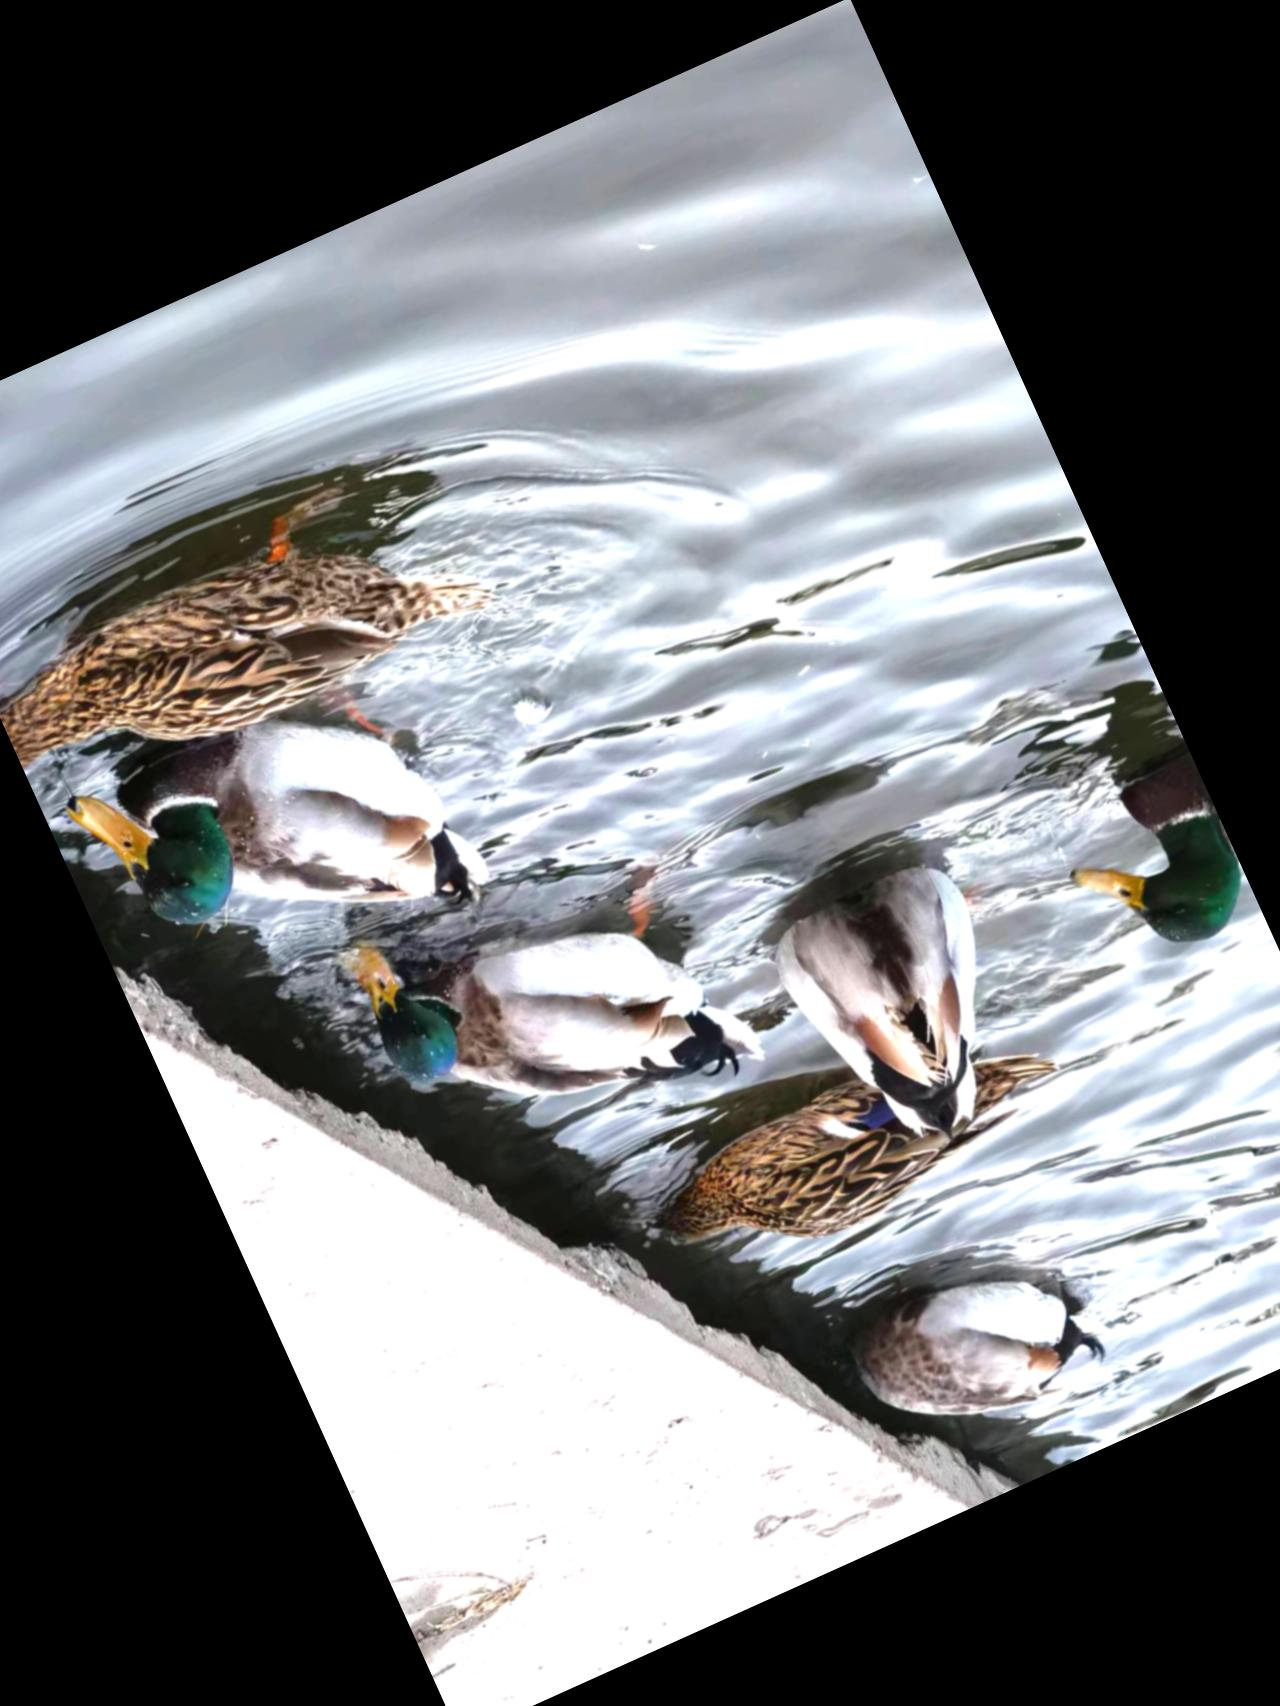duck: (0, 428, 522, 831), (317, 790, 780, 1214), (59, 644, 514, 1053), (605, 968, 1115, 1326), (738, 824, 1080, 1188), (980, 649, 1268, 1002), (819, 1209, 1142, 1471)
